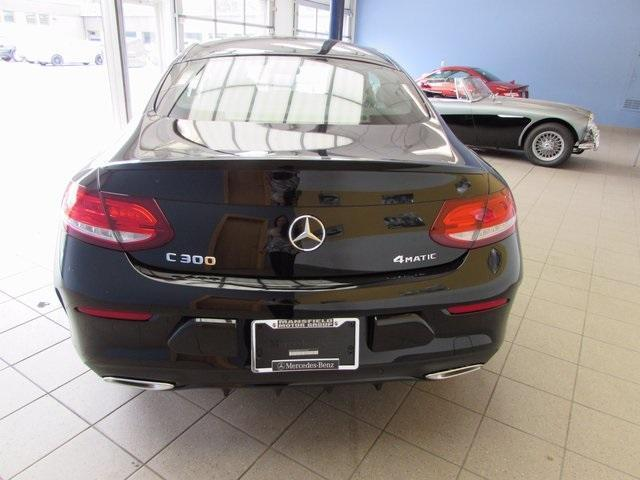C300Coupe: (52, 32, 527, 398)
